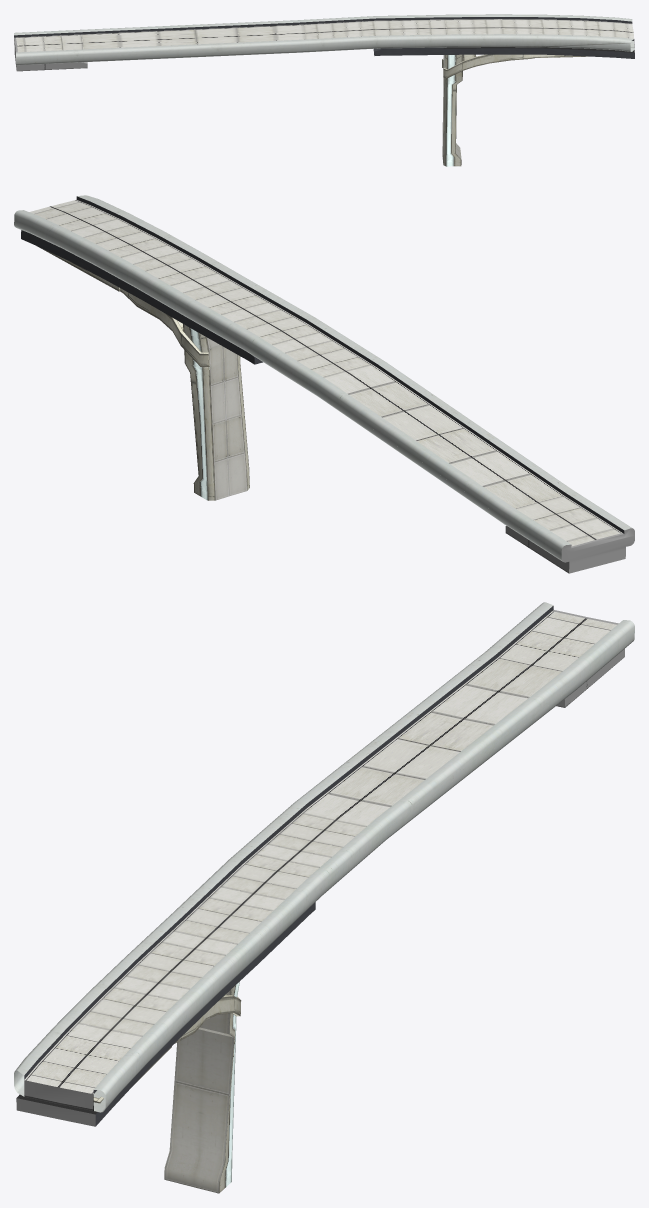
File: STA20_46.FBX
The picture shows the model from 3 angles, top to bottom: view 1: azimuth 30°, elevation 25°; view 2: azimuth 150°, elevation 25°; view 3: azimuth 270°, elevation 25°; orthographic projection. The views are drawn at different scales.
Parts seen in each view (by area): view 1: STA20_46; view 2: STA20_46; view 3: STA20_46.
Boxes of the visible parts, x1,y1,x2,y2 form: STA20_46: (14,14,634,166); STA20_46: (14,195,634,573); STA20_46: (14,602,634,1193).
Bounding box in the file's own units: 54.25 × 13.71 × 29.56.
